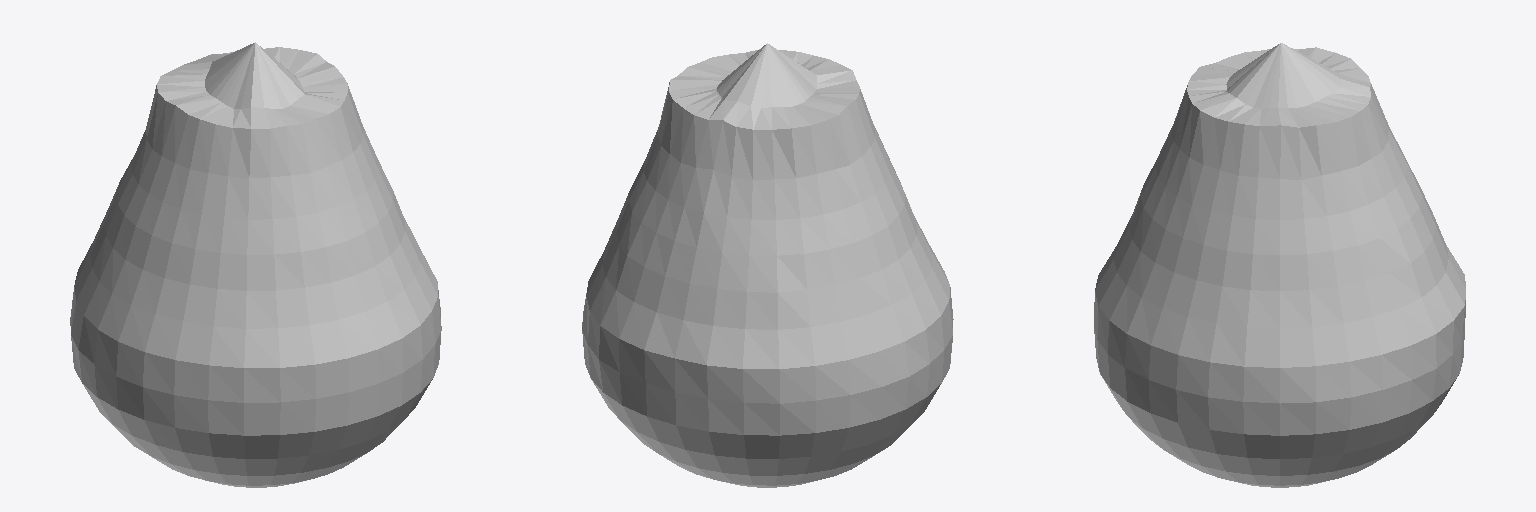
File: lampu kamar.obj
3 views of the same model, side by side, from view 1: azimuth 30°, elevation 25°; view 2: azimuth 150°, elevation 25°; view 3: azimuth 270°, elevation 25° (orthographic).
Visible parts, largest first — view 1: Sphere; view 2: Sphere; view 3: Sphere.
Boxes of the visible parts, x1,y1,x2,y2 form: Sphere: [70, 42, 441, 487]; Sphere: [582, 43, 953, 487]; Sphere: [1094, 43, 1465, 487].
Size of the model in its own units: 0.1268 by 0.1598 by 0.1264.